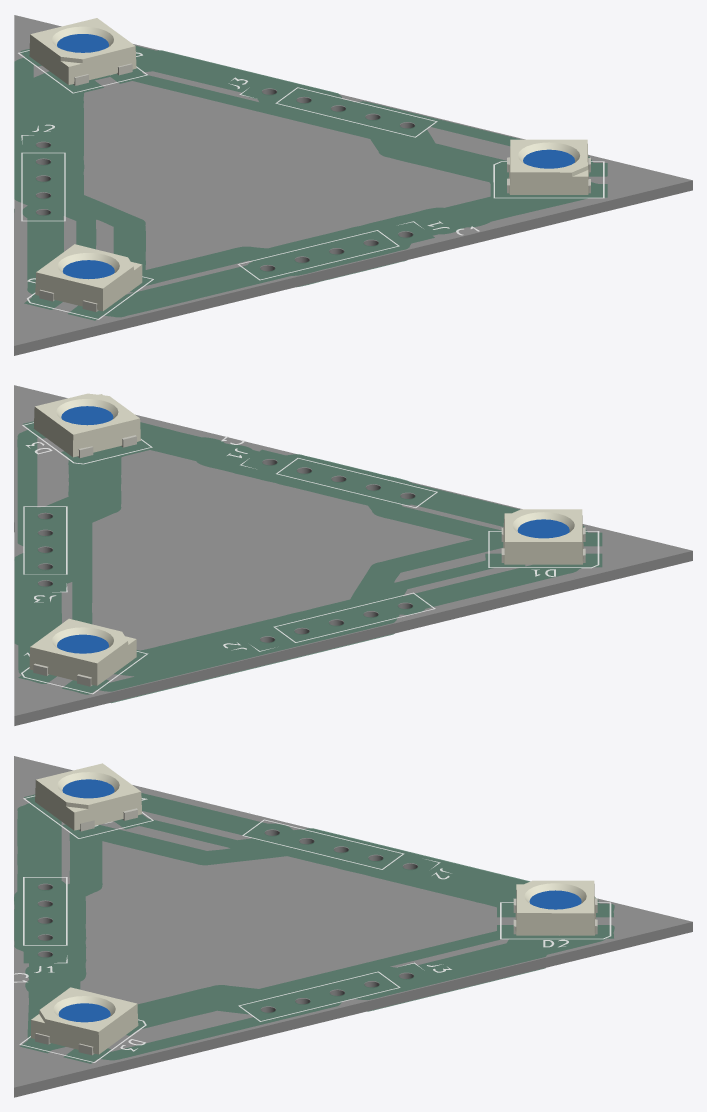
3 renders of one model, top to bottom at view 1: azimuth 30°, elevation 25°; view 2: azimuth 150°, elevation 25°; view 3: azimuth 270°, elevation 25°, orthographic.
Visible parts, largest first — view 1: =>[0:1:1:5], =>[0:1:1:4], D2, D1, D3, =>[0:1:1:3]; view 2: =>[0:1:1:5], =>[0:1:1:4], D2, D3, D1, =>[0:1:1:3]; view 3: =>[0:1:1:5], =>[0:1:1:4], D1, D3, D2, =>[0:1:1:3].
Part boxes in pixels (left/top/right/bottom): =>[0:1:1:5]: left=14, top=15, right=692, bottom=355; =>[0:1:1:4]: left=14, top=45, right=607, bottom=320; D2: left=29, top=18, right=136, bottom=85; D1: left=35, top=244, right=142, bottom=311; D3: left=507, top=139, right=590, bottom=194; =>[0:1:1:3]: left=18, top=50, right=604, bottom=319; =>[0:1:1:5]: left=14, top=385, right=692, bottom=725; =>[0:1:1:4]: left=14, top=421, right=602, bottom=703; D2: left=29, top=618, right=136, bottom=686; D3: left=33, top=393, right=140, bottom=457; D1: left=501, top=509, right=585, bottom=564; =>[0:1:1:3]: left=21, top=422, right=599, bottom=694; =>[0:1:1:5]: left=14, top=756, right=692, bottom=1097; =>[0:1:1:4]: left=14, top=793, right=614, bottom=1063; D1: left=35, top=763, right=141, bottom=831; D3: left=31, top=987, right=138, bottom=1055; D2: left=513, top=880, right=597, bottom=935; =>[0:1:1:3]: left=14, top=795, right=611, bottom=1062.
Size of the model in its own units: 0.05 by 0.00257 by 0.0433.
